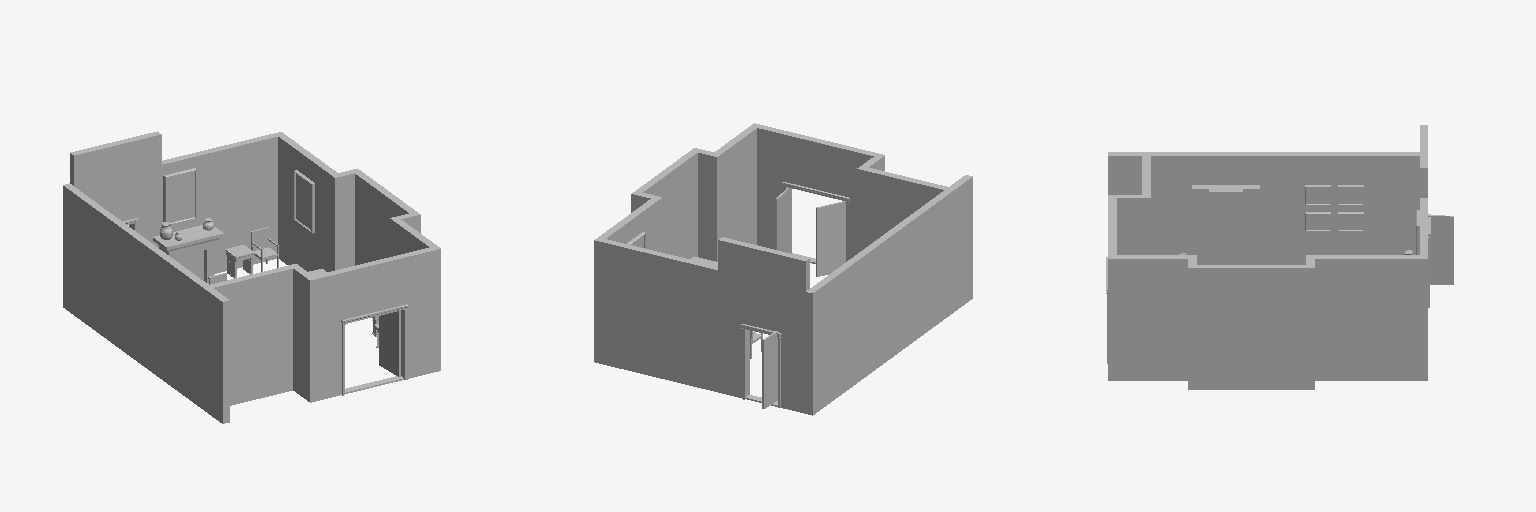
File: study_blockout.obj
3 views of the same model, side by side, from view 1: azimuth 30°, elevation 25°; view 2: azimuth 150°, elevation 25°; view 3: azimuth 270°, elevation 25° (orthographic).
Parts seen in each view (by area): view 1: pCube185; view 2: pCube185; view 3: pCube185.
Boxes of the visible parts, <box> form: pCube185: <box>63,131,440,423</box>; pCube185: <box>594,123,972,415</box>; pCube185: <box>1106,125,1453,389</box>.
Size of the model in its own units: 8.17 by 5 by 10.36.